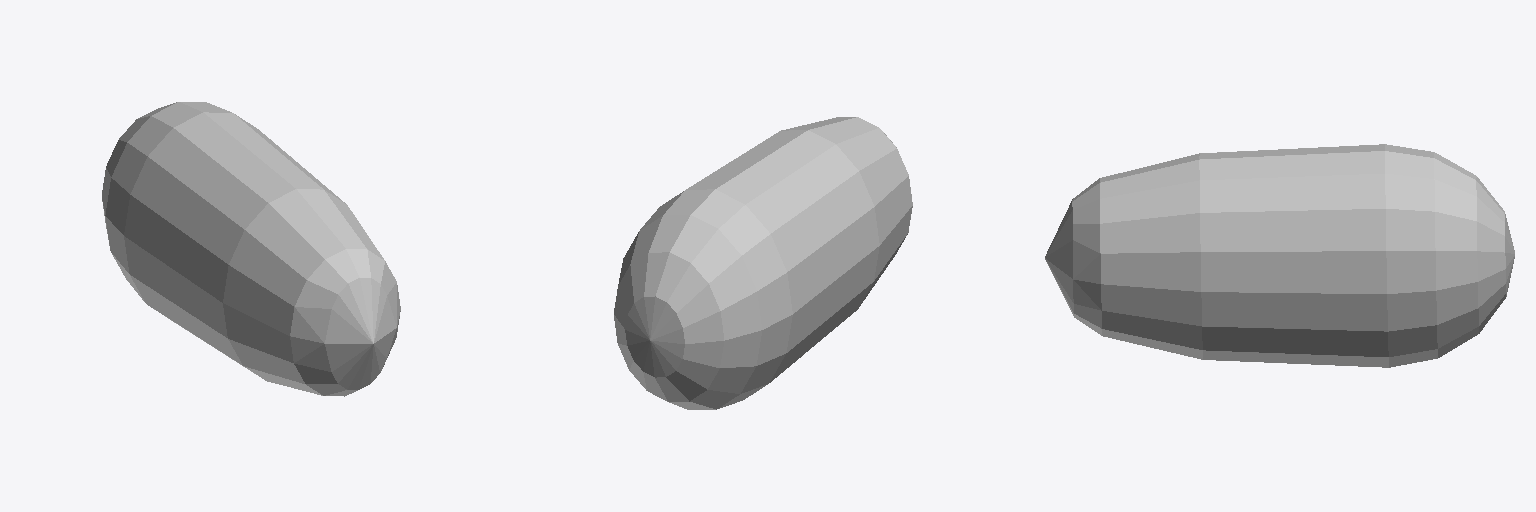
The model's file is fish2.obj.
3 views of the same model, side by side, from view 1: azimuth 30°, elevation 25°; view 2: azimuth 150°, elevation 25°; view 3: azimuth 270°, elevation 25° (orthographic).
Visible parts, largest first — view 1: sphere7; view 2: sphere7; view 3: sphere7.
Boxes of the visible parts, x1=… form: sphere7: x1=102, y1=102, x2=400, y2=396; sphere7: x1=614, y1=117, x2=912, y2=409; sphere7: x1=1045, y1=144, x2=1514, y2=367.
Size of the model in its own units: 1.41 by 1.81 by 3.67.